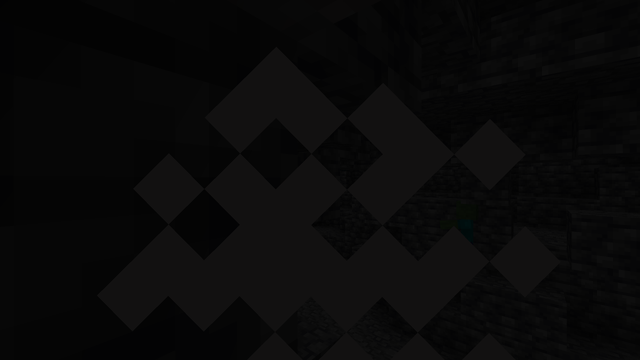zombies: (454, 201, 481, 274)
